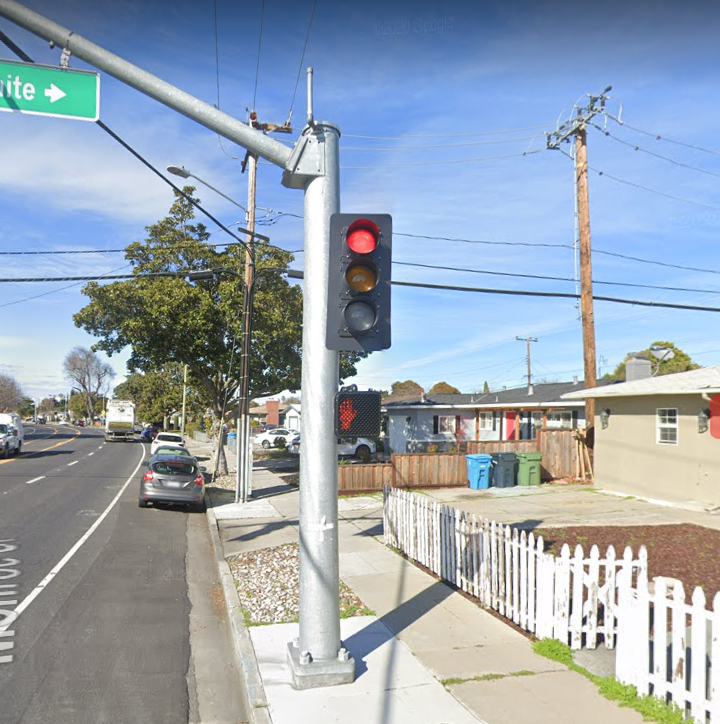red_light: (330, 214, 389, 352)
